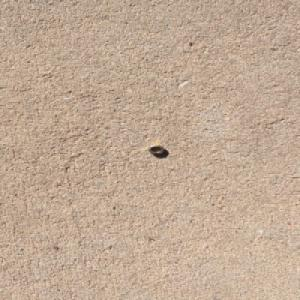Nut: (146, 144, 166, 155)
